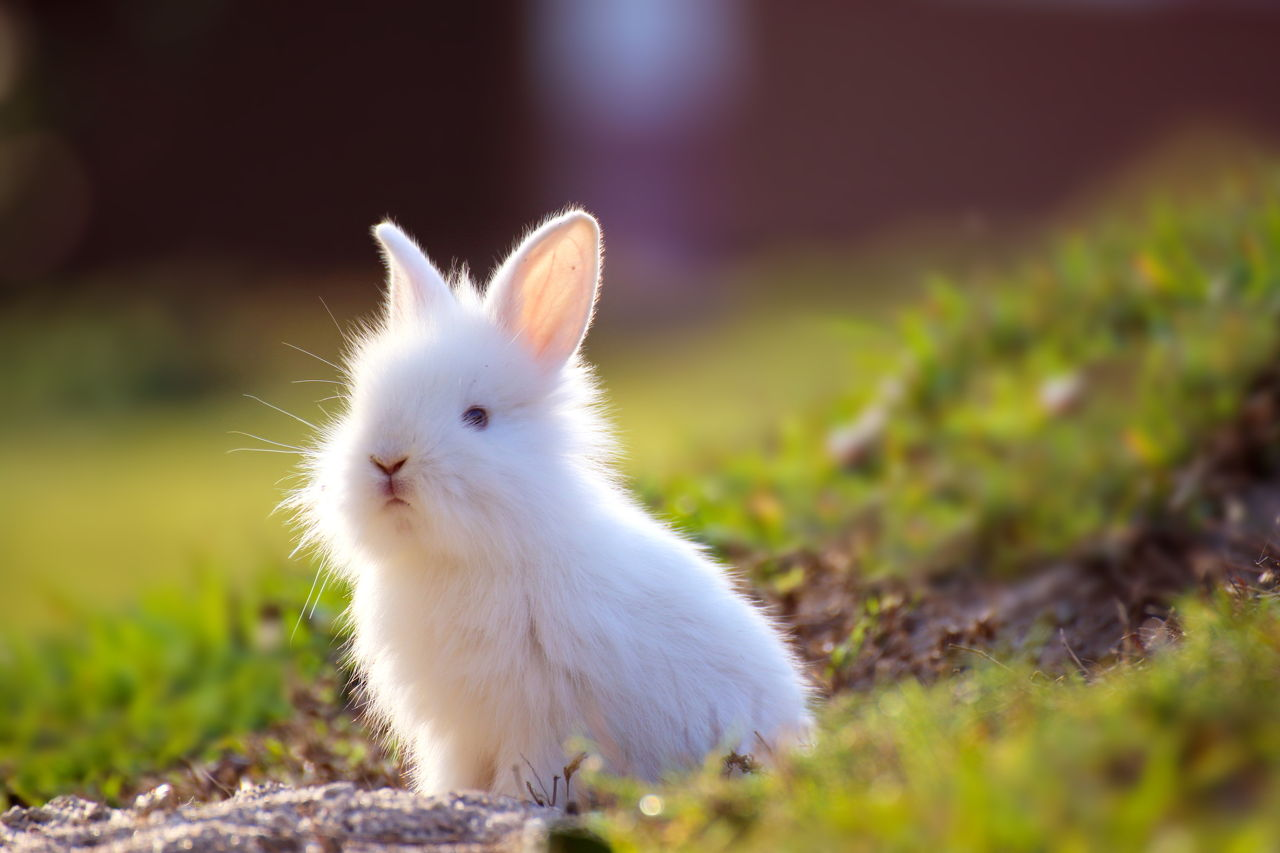bunny: (270, 190, 853, 824)
